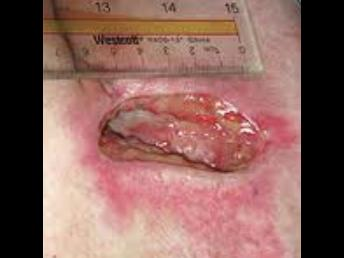Stage4: (79, 85, 280, 199)
